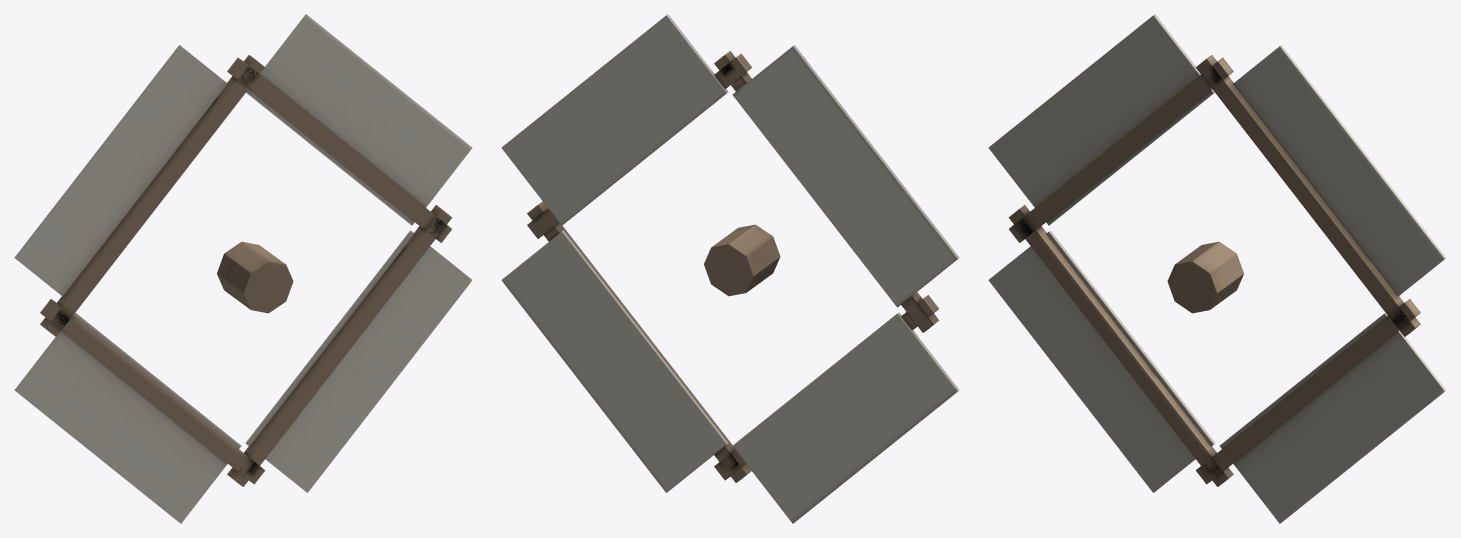
File: millblades.glb
3 renders of one model, left to right at view 1: azimuth 30°, elevation 25°; view 2: azimuth 150°, elevation 25°; view 3: azimuth 330°, elevation 25°, orthographic.
Visible parts, largest first — view 1: millblades; view 2: millblades; view 3: millblades.
Boxes of the visible parts, <box> form: millblades: <box>14,14,472,523</box>; millblades: <box>501,14,959,523</box>; millblades: <box>988,14,1446,523</box>.
Size of the model in its own units: 2.93 by 2.93 by 0.3.
Materials: 2 (2 with a texture image).
